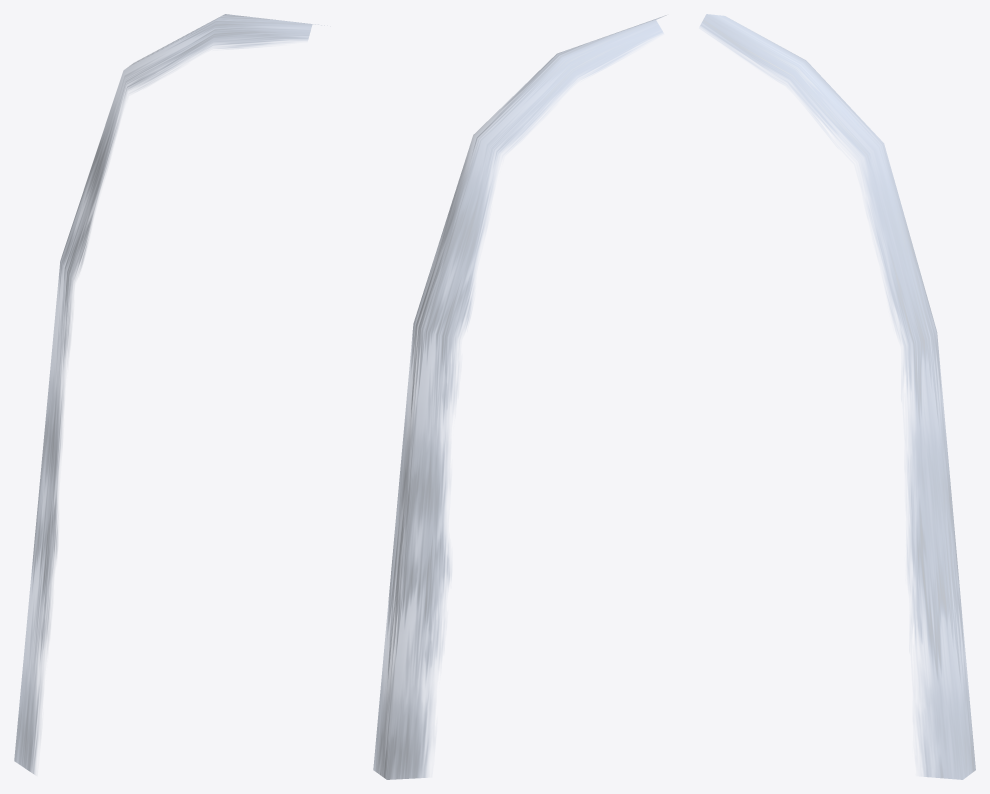
3 views of the same model, side by side, from view 1: azimuth 90°, elevation 25°; view 2: azimuth 150°, elevation 25°; view 3: azimuth 270°, elevation 25° (orthographic). The views are drawn at different scales.
Parts seen in each view (by area): view 1: CJ_WF_dr_05; view 2: CJ_WF_dr_05; view 3: CJ_WF_dr_05.
Part boxes in pixels (bbox=[...]): CJ_WF_dr_05: bbox=[14, 14, 324, 773]; CJ_WF_dr_05: bbox=[373, 15, 666, 779]; CJ_WF_dr_05: bbox=[700, 14, 975, 779].
Bounding box in the file's own units: 1.64 × 6.31 × 2.31.
1 material, 1 textured.
